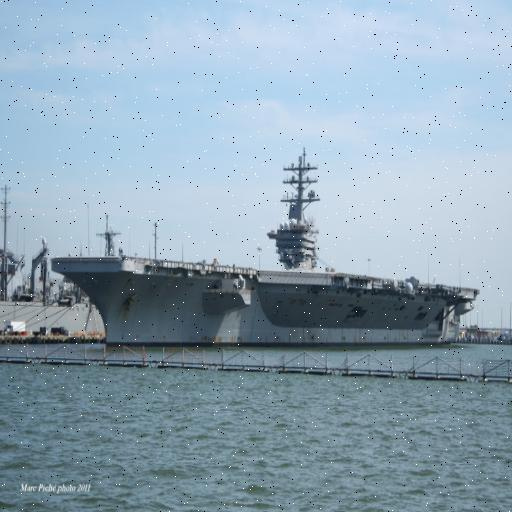Portanaves: (49, 146, 485, 352)
